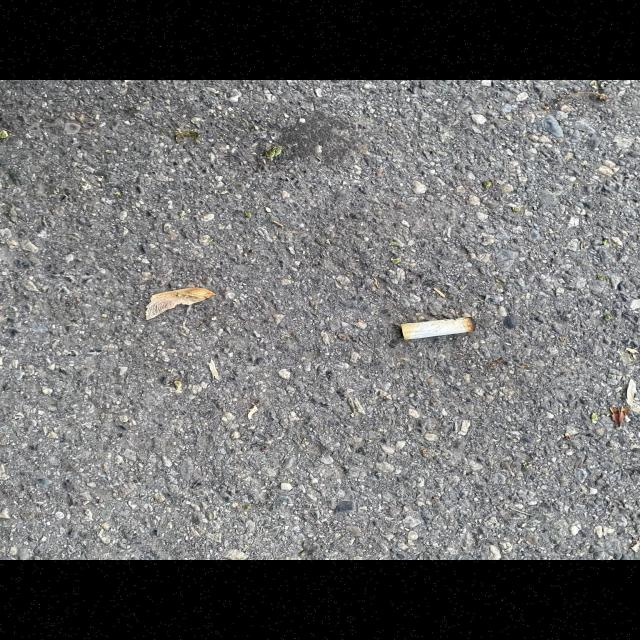other waste: (400, 316, 476, 341)
